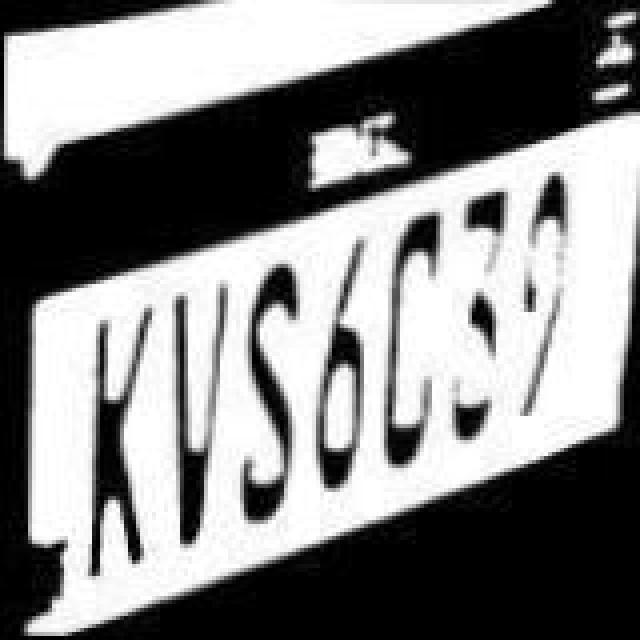3: (446, 176, 510, 448)
6: (316, 216, 376, 500)
9: (514, 156, 578, 428)
C: (378, 202, 442, 478)
K: (88, 292, 152, 588)
S: (228, 252, 316, 528)
V: (158, 272, 234, 552)
